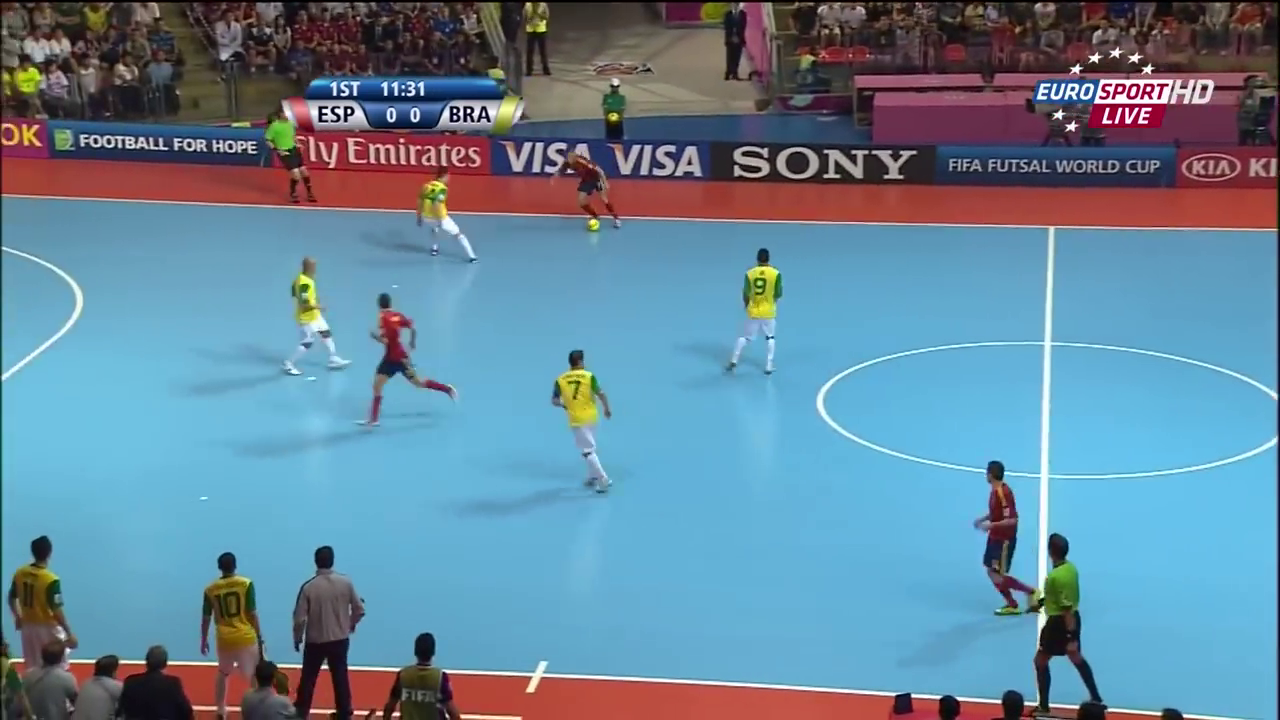ball: (584, 215, 606, 229)
person: (350, 294, 461, 425), (955, 456, 1040, 620), (544, 352, 620, 496), (719, 246, 789, 386), (275, 259, 350, 376), (543, 146, 624, 234), (409, 169, 472, 258)
